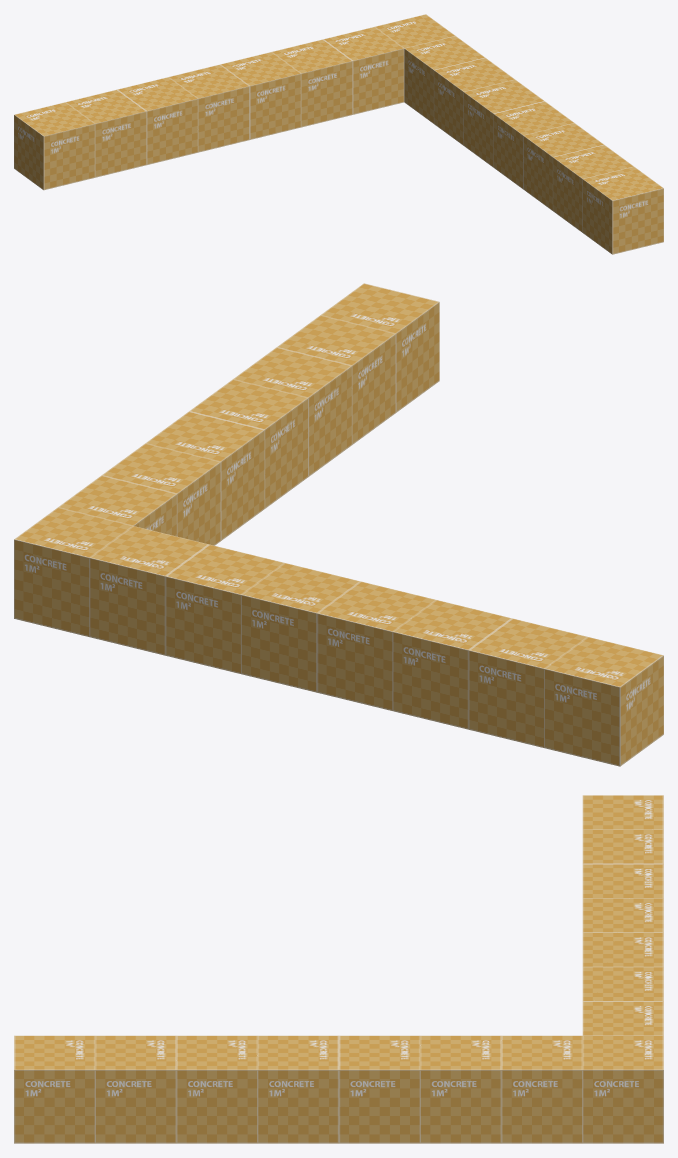
The model's file is construction_edge_concave_16.fbx.
3 views of the same model, one above another, from view 1: azimuth 30°, elevation 25°; view 2: azimuth 150°, elevation 25°; view 3: azimuth 270°, elevation 25° (orthographic). The views are drawn at different scales.
Visible parts, largest first — view 1: construction_edge_concave_16; view 2: construction_edge_concave_16; view 3: construction_edge_concave_16.
Boxes of the visible parts, bbox=[...] form: construction_edge_concave_16: bbox=[14, 14, 663, 254]; construction_edge_concave_16: bbox=[14, 283, 663, 766]; construction_edge_concave_16: bbox=[14, 795, 663, 1143].
Bounding box in the file's own units: 800 × 100 × 800.
